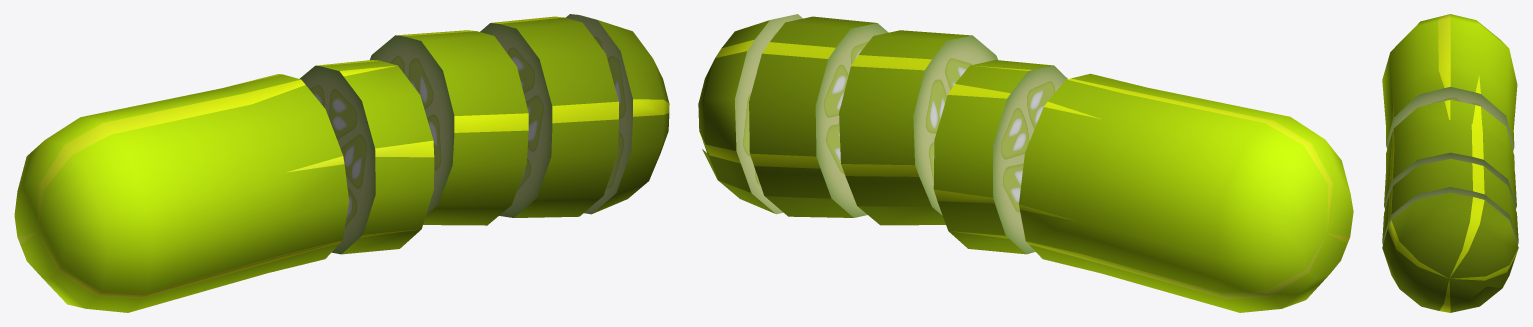
Rendered from Cucumber_01_S4.fbx.
3 views of the same model, side by side, from view 1: azimuth 30°, elevation 25°; view 2: azimuth 150°, elevation 25°; view 3: azimuth 270°, elevation 25° (orthographic). The views are drawn at different scales.
Visible parts, largest first — view 1: Cucumber_01_S4; view 2: Cucumber_01_S4; view 3: Cucumber_01_S4.
Boxes of the visible parts, x1,y1,x2,y2 form: Cucumber_01_S4: (14, 14, 669, 312); Cucumber_01_S4: (698, 14, 1353, 312); Cucumber_01_S4: (1382, 14, 1518, 312).
Bounding box in the file's own units: 138 × 43.49 × 39.51.
